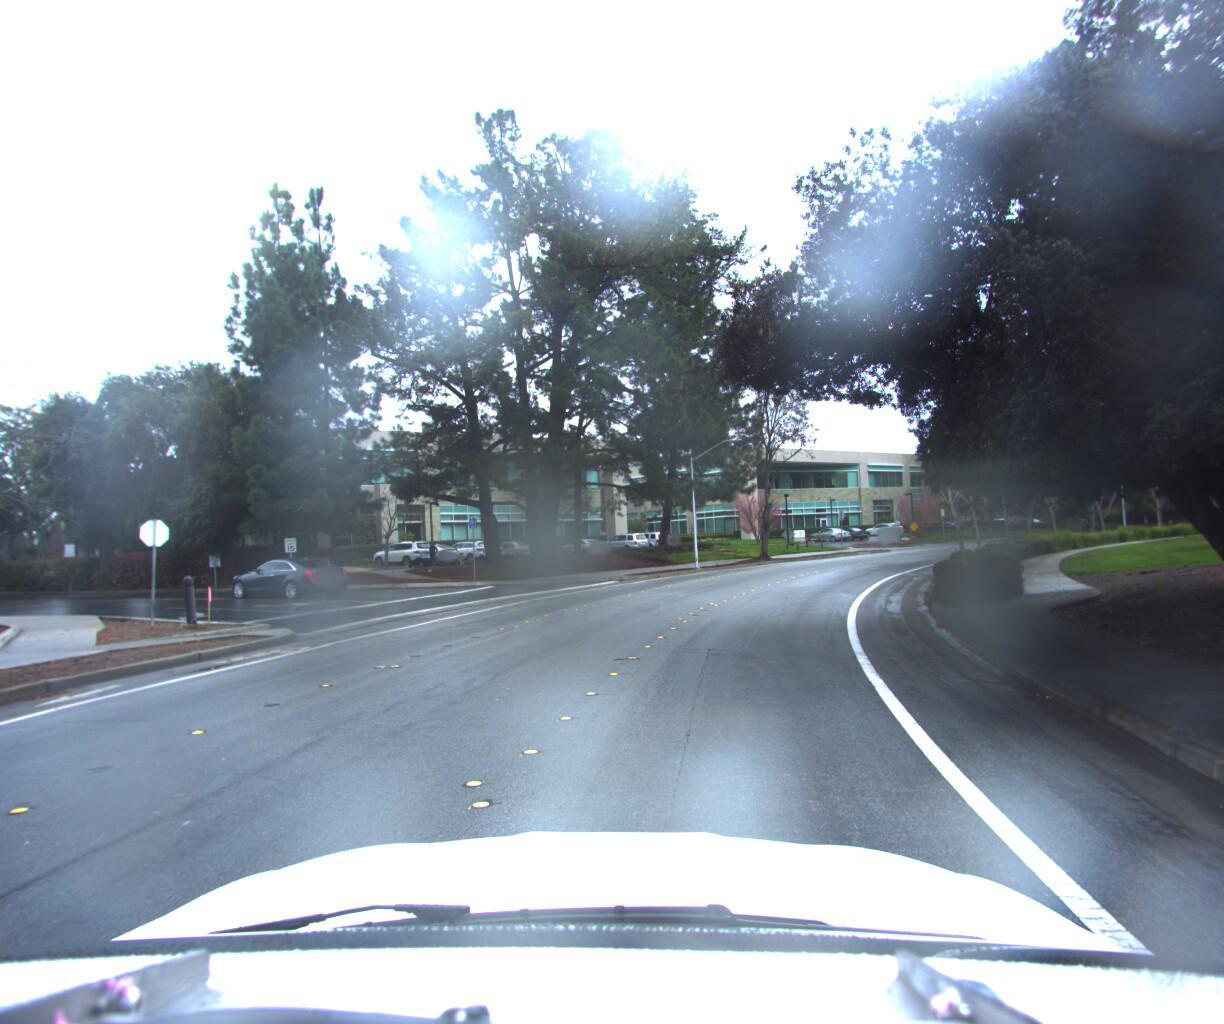car: (225, 545, 357, 600)
